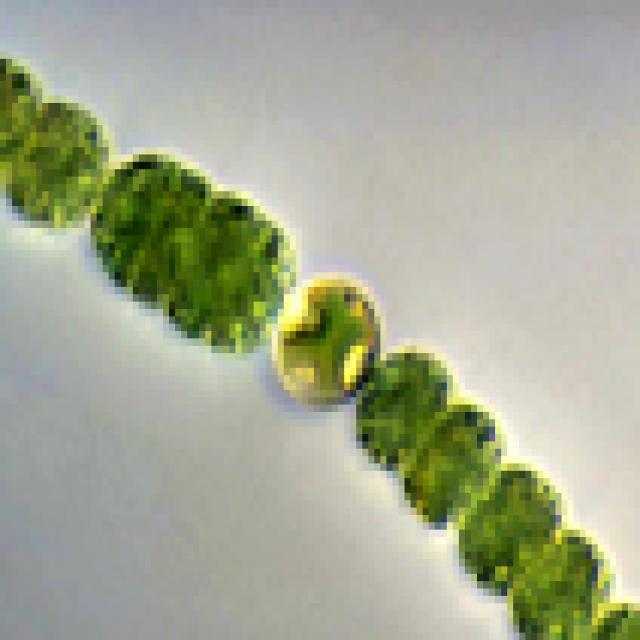Blue Green Algae: (169, 192, 290, 360), (91, 147, 199, 309), (447, 464, 568, 588), (6, 96, 109, 236), (399, 398, 495, 522), (356, 346, 447, 471), (501, 529, 603, 640)
